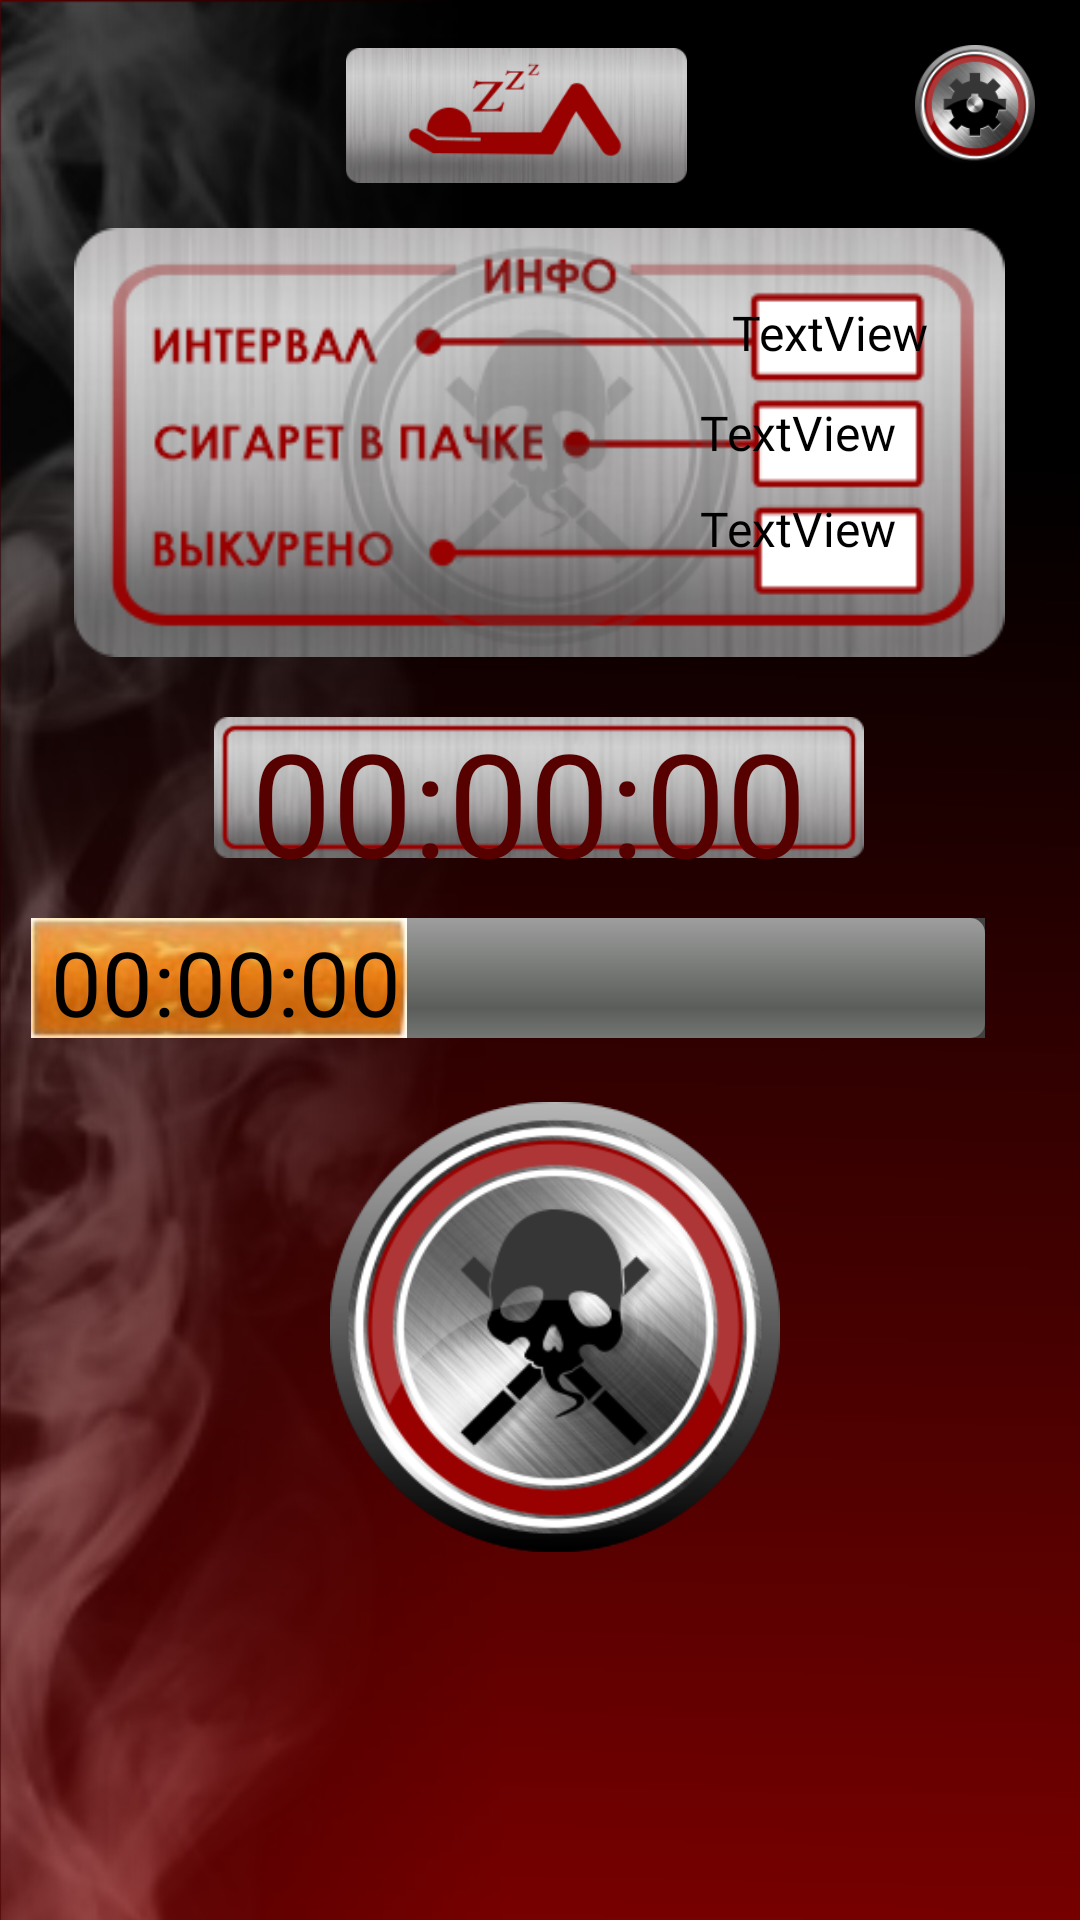

Named icons in this screenshot (1080*1920) and their centers, (x,y):
nastroyka: (975,103)
spat: (516,115)
